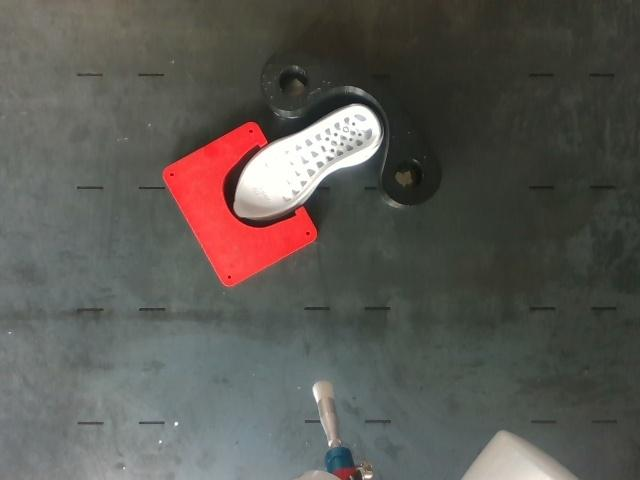shoes: (235, 106, 379, 218)
